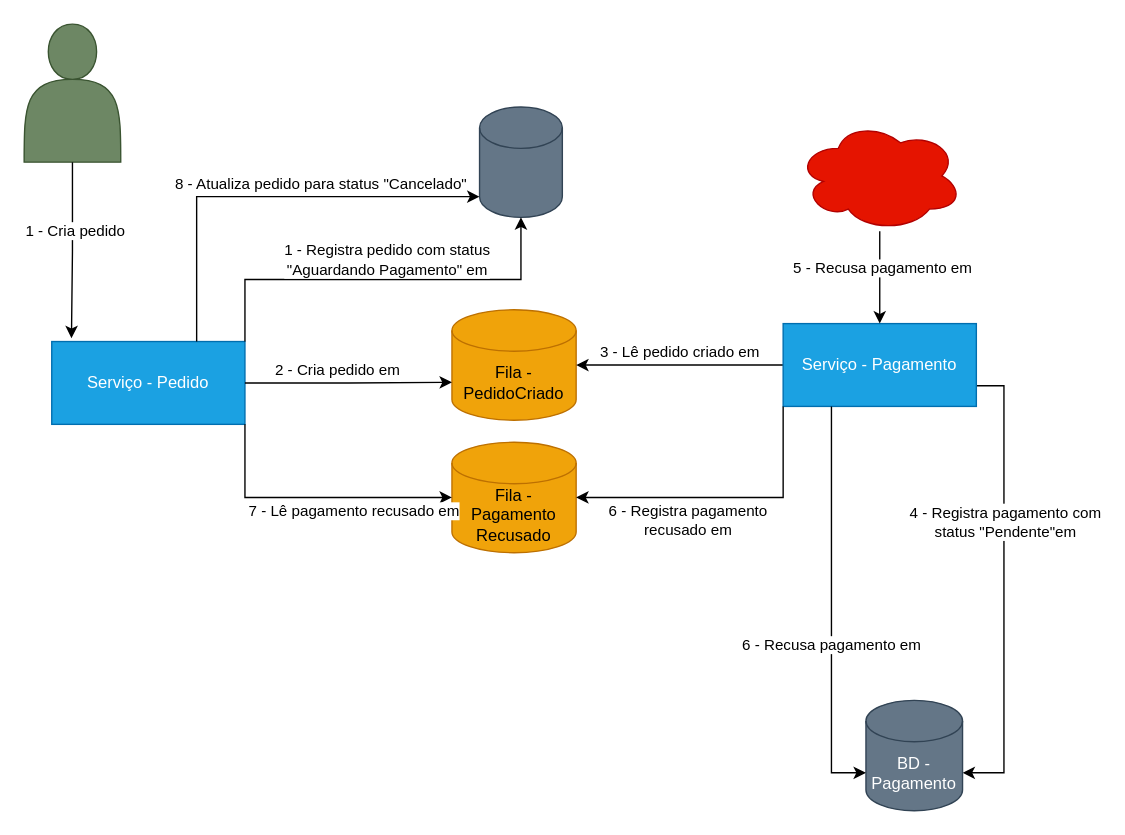
Image size: 1125x835. Some labels were removed from this diagram. Here are the shapes that lost their labels. From the top down, the centre of each, then its label:
At point 72,92: "Cliente".
At point 520,161: "BD - Pedido".
At point 879,175: "Serviço Externo Pagamento".
